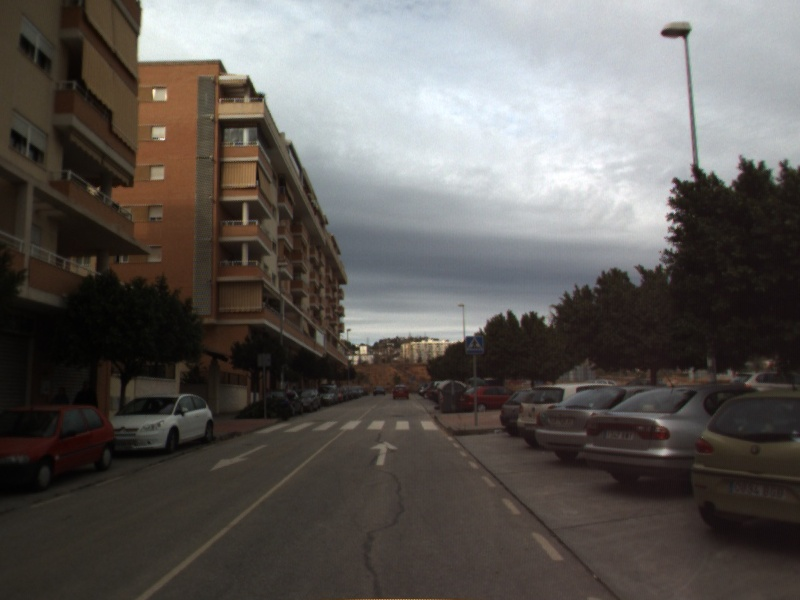STRAIGHT: (368, 439, 400, 467)
